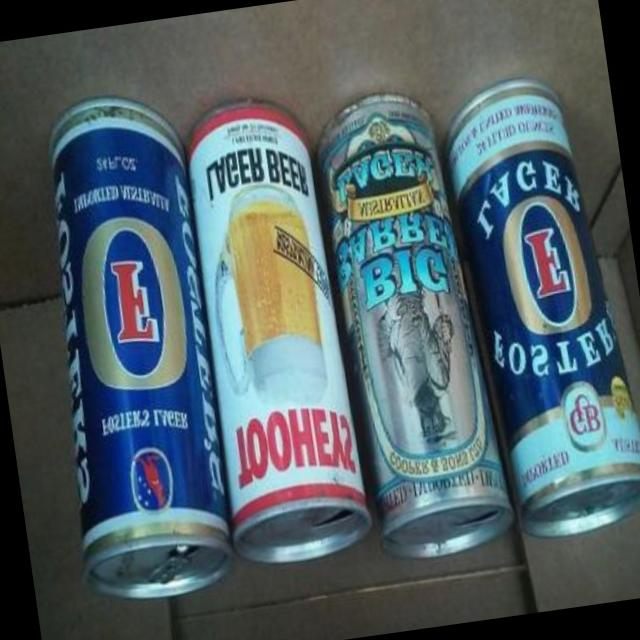metal: (50, 102, 229, 602), (320, 96, 510, 559), (448, 81, 640, 538), (189, 106, 370, 563)
